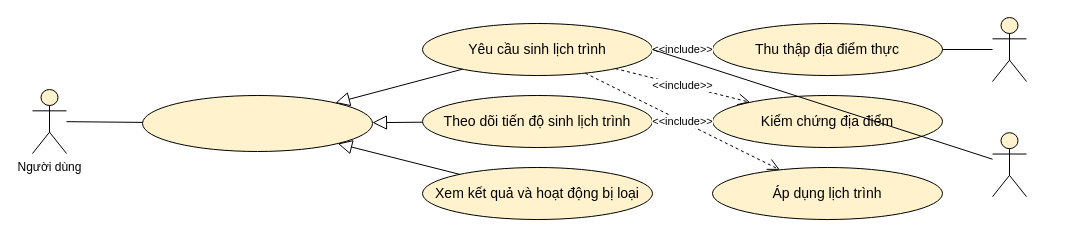
Some shapes in this 1065 by 237 pixel diagram are drawn without their labels. Here are the shapes that lost their labels. From the top down, the centre of each, then its label:
pixel 1009 49: Google Places
pixel 257 123: Sinh lịch trình tự động bằng AI
pixel 1009 164: Dịch vụ LLM
